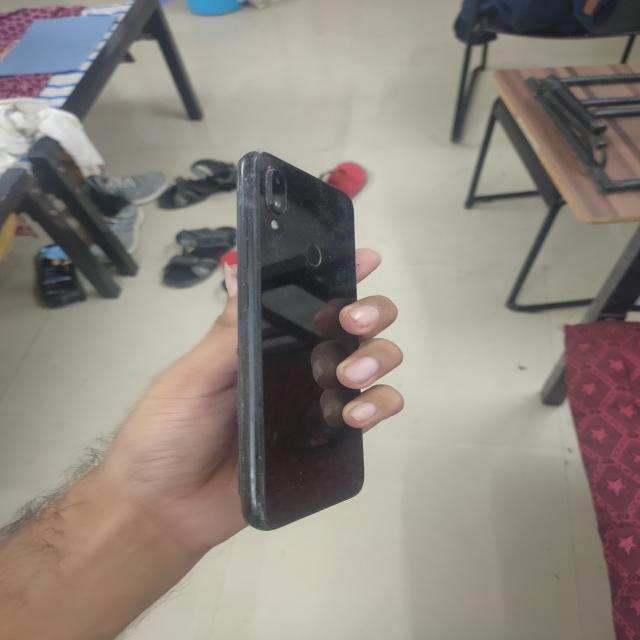Phone: (232, 149, 366, 531)
